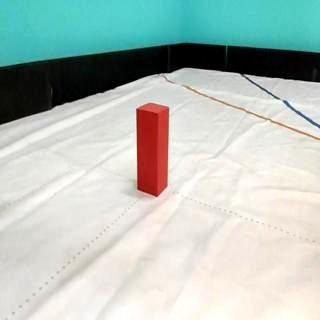redbox: (135, 100, 170, 198)
